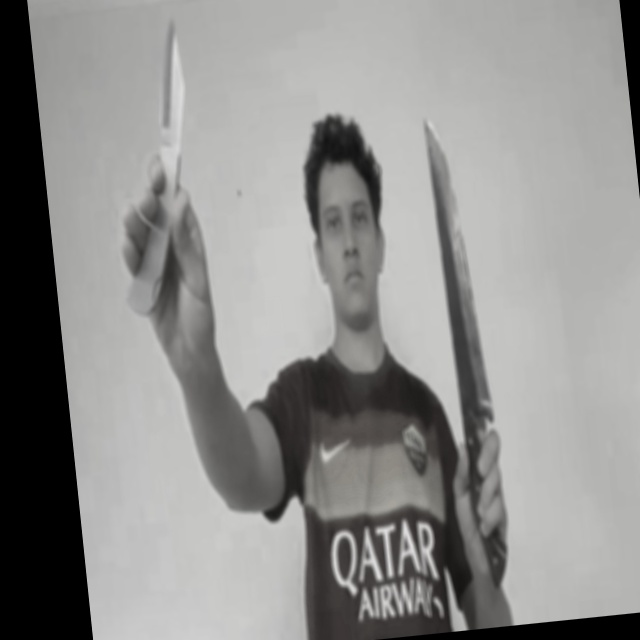Sharp-Object: (423, 113, 495, 424), (148, 15, 191, 141)
